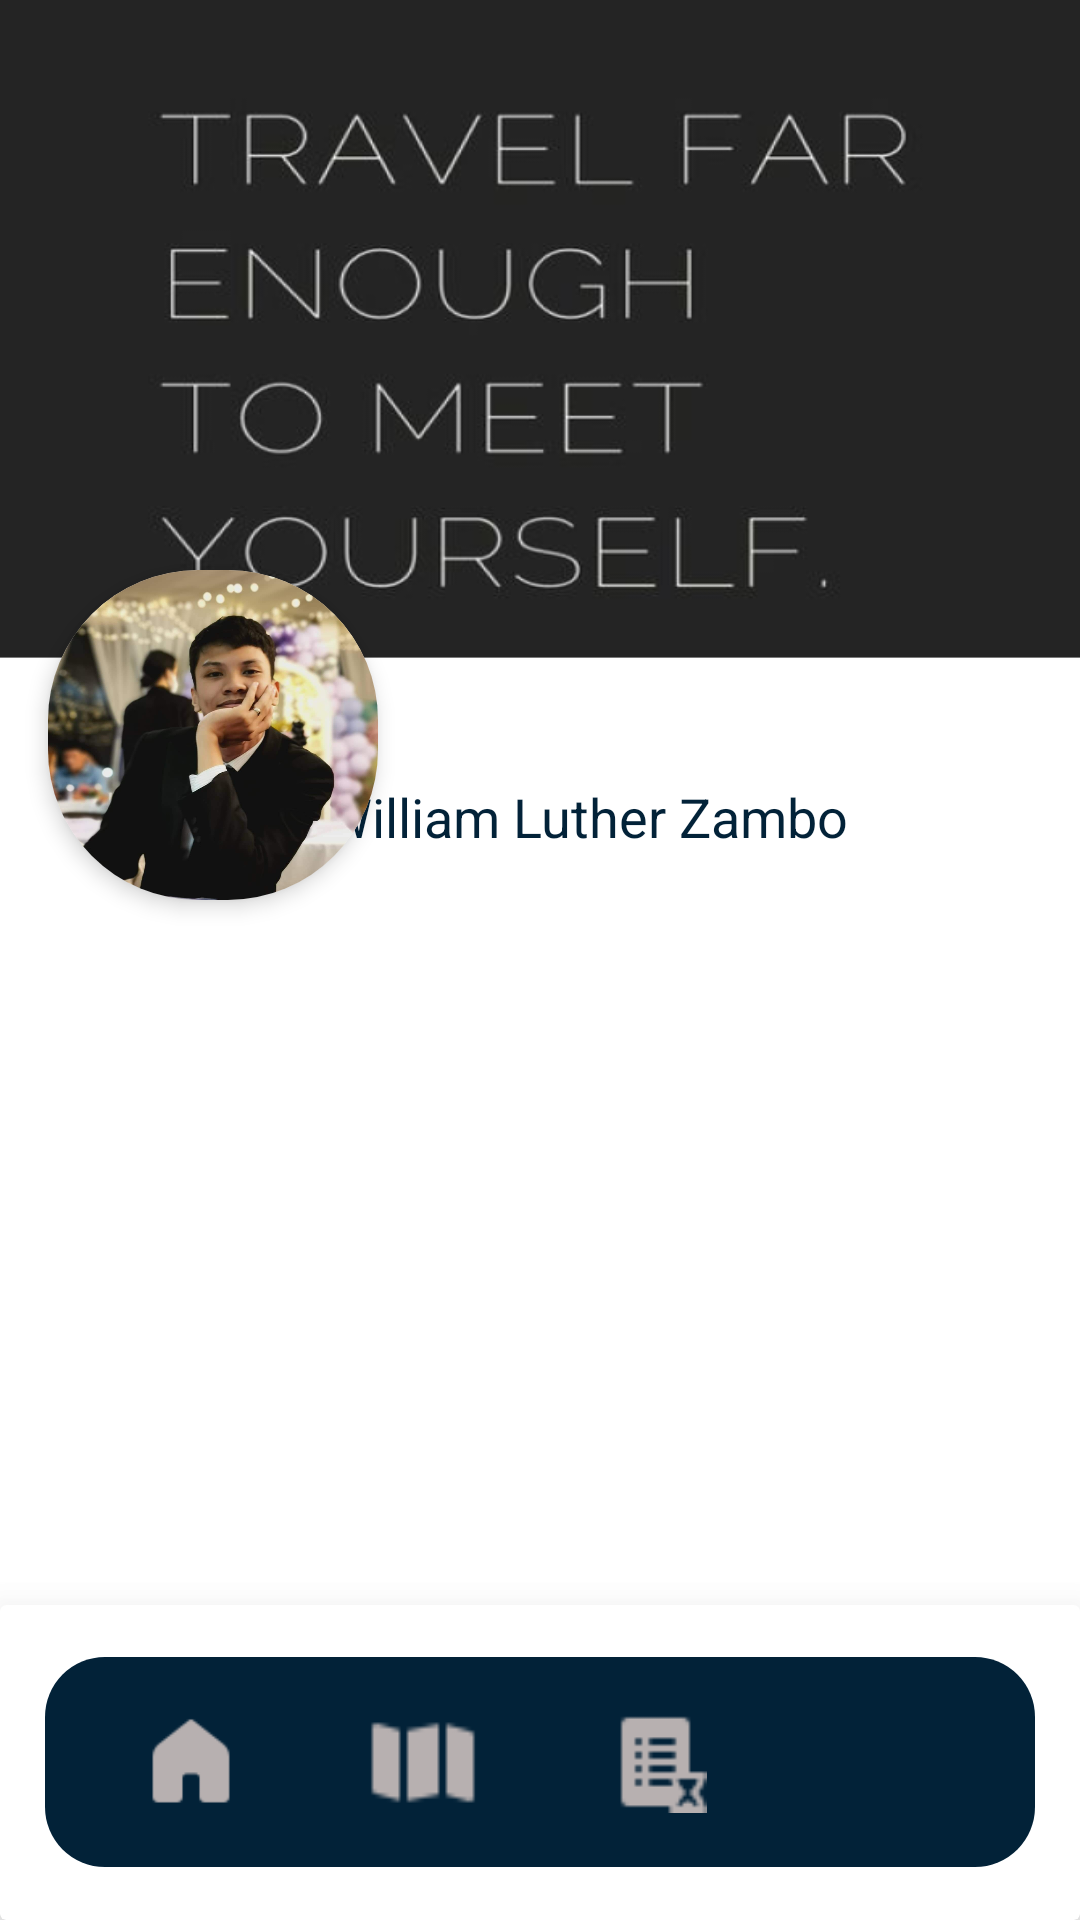

Locate icon controls on the screen. Image size 1080px x 1920px, boxes as box(x1, y1, x2, y2).
History Icon: box(620, 1717, 707, 1813)
Home Icon: box(152, 1719, 230, 1803)
Map Icon: box(371, 1722, 475, 1803)
